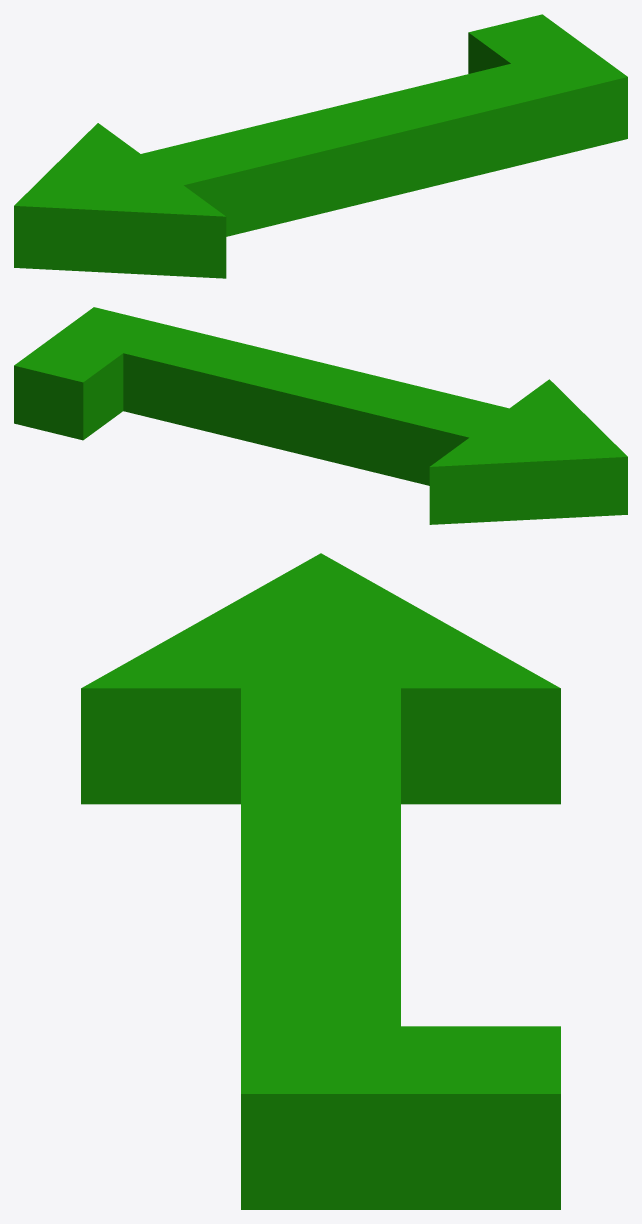
Rendered from green-enter-arrow.glb.
3 views of the same model, one above another, from view 1: azimuth 30°, elevation 25°; view 2: azimuth 150°, elevation 25°; view 3: azimuth 270°, elevation 25° (orthographic). The views are drawn at different scales.
Visible parts, largest first — view 1: enter; view 2: enter; view 3: enter.
Part boxes in pixels (x1,y1,x2,y2): enter: (14,14,627,278); enter: (14,307,627,524); enter: (81,553,560,1209).
Bounding box in the file's own units: 1 × 0.1 × 0.375.
